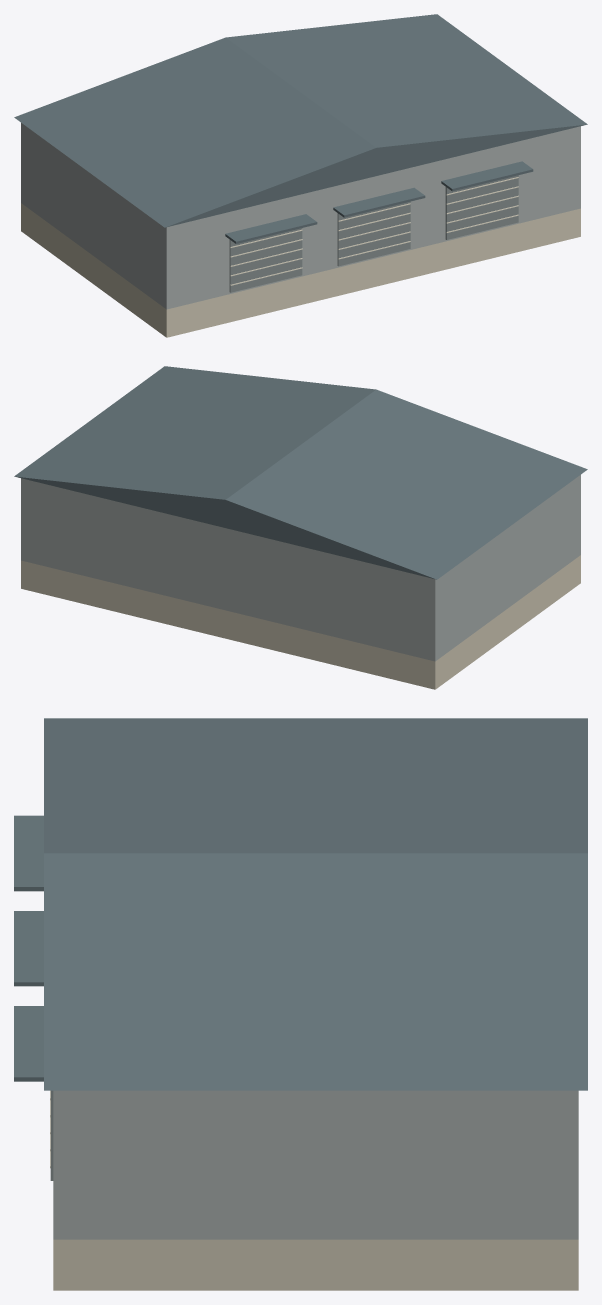
Rendered from dock-shed-2.glb.
The picture shows the model from 3 angles, top to bottom: view 1: azimuth 30°, elevation 25°; view 2: azimuth 150°, elevation 25°; view 3: azimuth 270°, elevation 25°; orthographic projection. The views are drawn at different scales.
Size of the model in its own units: 47 by 15 by 30.6.
